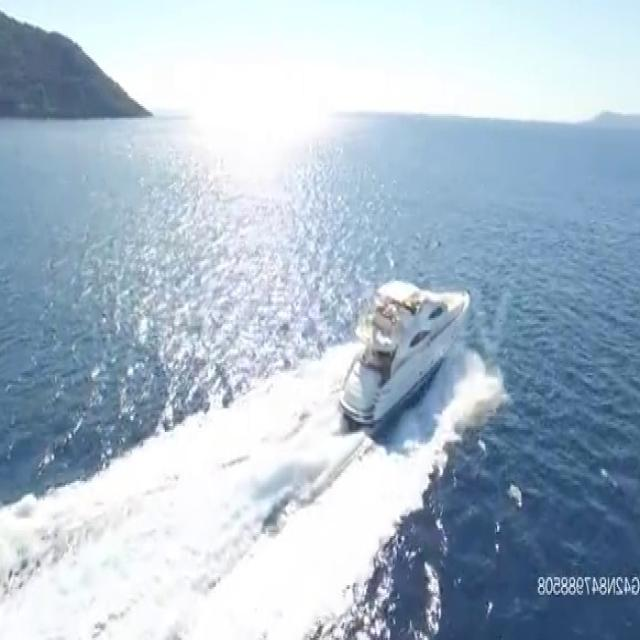houseboat: (340, 277, 473, 431)
